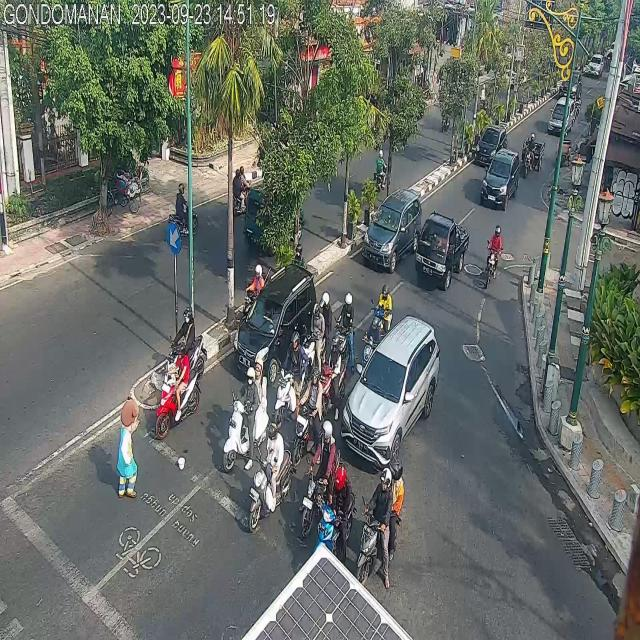car: (342, 317, 441, 468), (232, 267, 318, 378), (363, 190, 422, 268), (481, 147, 520, 211), (475, 123, 507, 164), (547, 98, 574, 136), (559, 68, 582, 105), (585, 56, 603, 78)
motorcycle: (356, 459, 404, 588), (223, 361, 267, 479), (249, 422, 292, 538), (156, 342, 201, 442), (302, 418, 339, 535), (317, 468, 353, 573), (272, 328, 309, 430), (168, 301, 205, 388), (167, 180, 201, 242), (485, 224, 504, 296), (229, 164, 249, 213), (374, 285, 391, 335), (372, 148, 387, 190)
truck: (416, 209, 469, 287)
